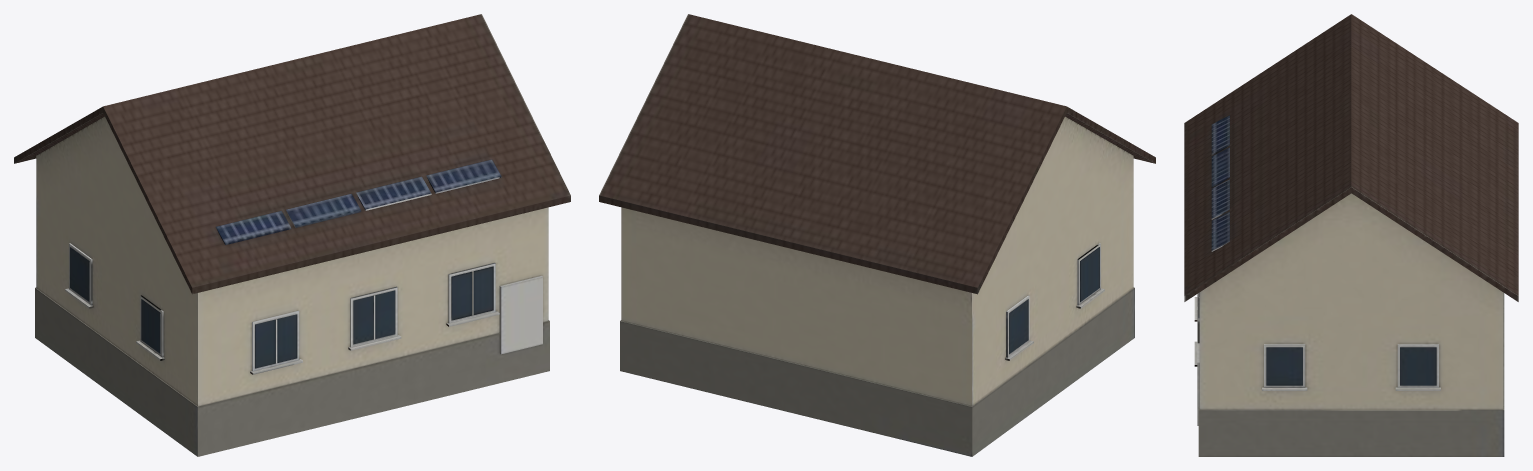
The model's file is dom_solar.glb.
3 views of the same model, side by side, from view 1: azimuth 30°, elevation 25°; view 2: azimuth 150°, elevation 25°; view 3: azimuth 270°, elevation 25° (orthographic). The views are drawn at different scales.
Parts seen in each view (by area): view 1: dom_solar; view 2: dom_solar; view 3: dom_solar.
Boxes of the visible parts, bbox=[...] form: dom_solar: bbox=[14, 14, 570, 456]; dom_solar: bbox=[599, 14, 1155, 456]; dom_solar: bbox=[1184, 14, 1518, 456].
Bounding box in the file's own units: 13.5 × 10.02 × 11.
Materials: 1 (1 with a texture image).
